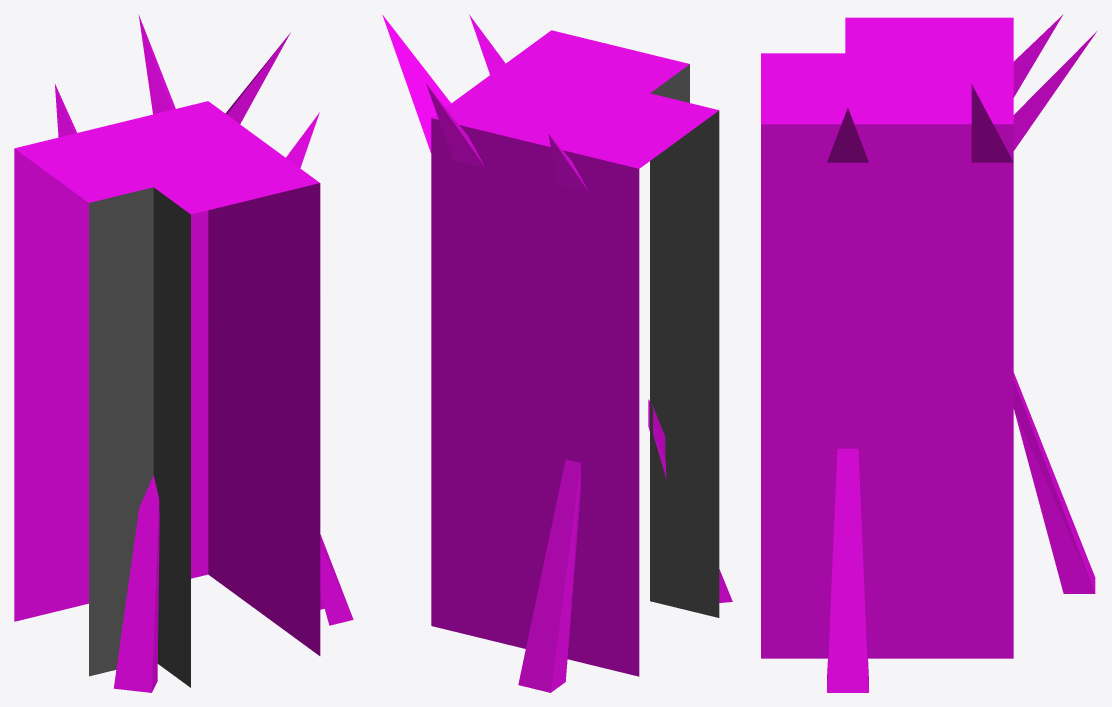
The model's file is ardoungewallcorner.obj.
3 renders of one model, left to right at view 1: azimuth 30°, elevation 25°; view 2: azimuth 150°, elevation 25°; view 3: azimuth 270°, elevation 25°, orthographic. The views are drawn at different scales.
Visible parts, largest first — view 1: ardoungewallcorner_back, ardoungewallcorner_front; view 2: ardoungewallcorner_back, ardoungewallcorner_front; view 3: ardoungewallcorner_back, ardoungewallcorner_front.
Part boxes in pixels (bbox=[...]): ardoungewallcorner_back: bbox=[14, 17, 320, 687]; ardoungewallcorner_front: bbox=[15, 15, 353, 692]; ardoungewallcorner_back: bbox=[431, 64, 719, 676]; ardoungewallcorner_front: bbox=[382, 14, 732, 692]; ardoungewallcorner_back: bbox=[761, 14, 1096, 658]; ardoungewallcorner_front: bbox=[761, 17, 1095, 692].
Size of the model in its own units: 1.28 by 2.56 by 1.28.
